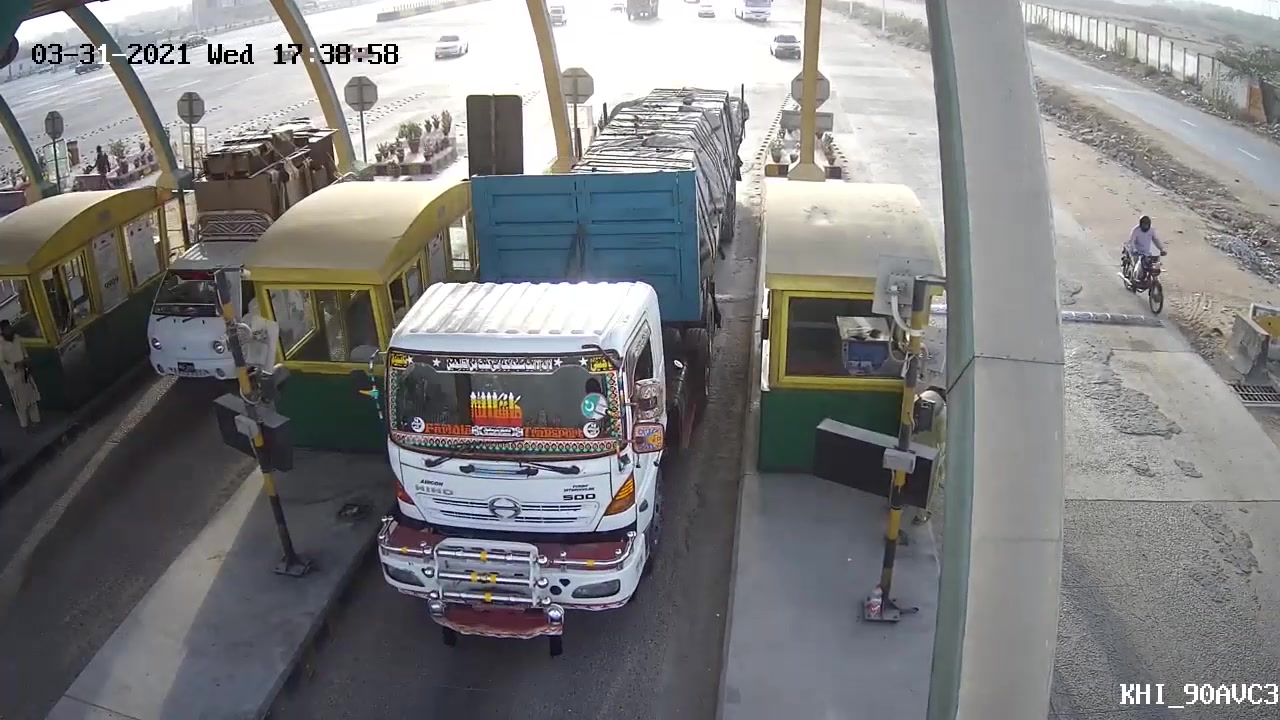F6: (372, 81, 750, 656)
